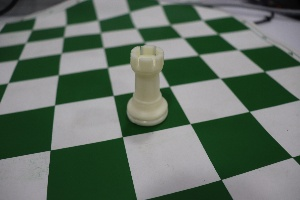white_rook: (117, 30, 171, 133)
